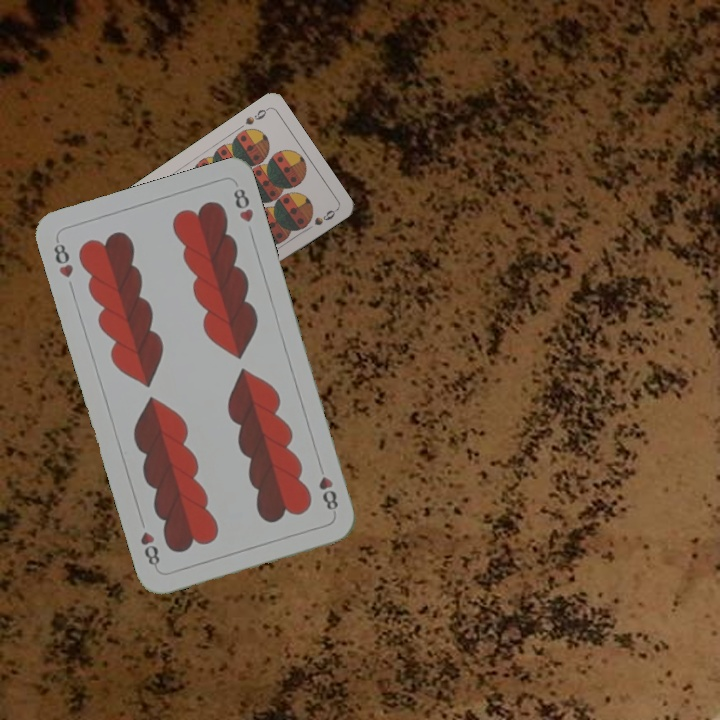H8: (314, 459, 341, 513), (49, 235, 76, 281)
S9: (241, 104, 271, 128)
